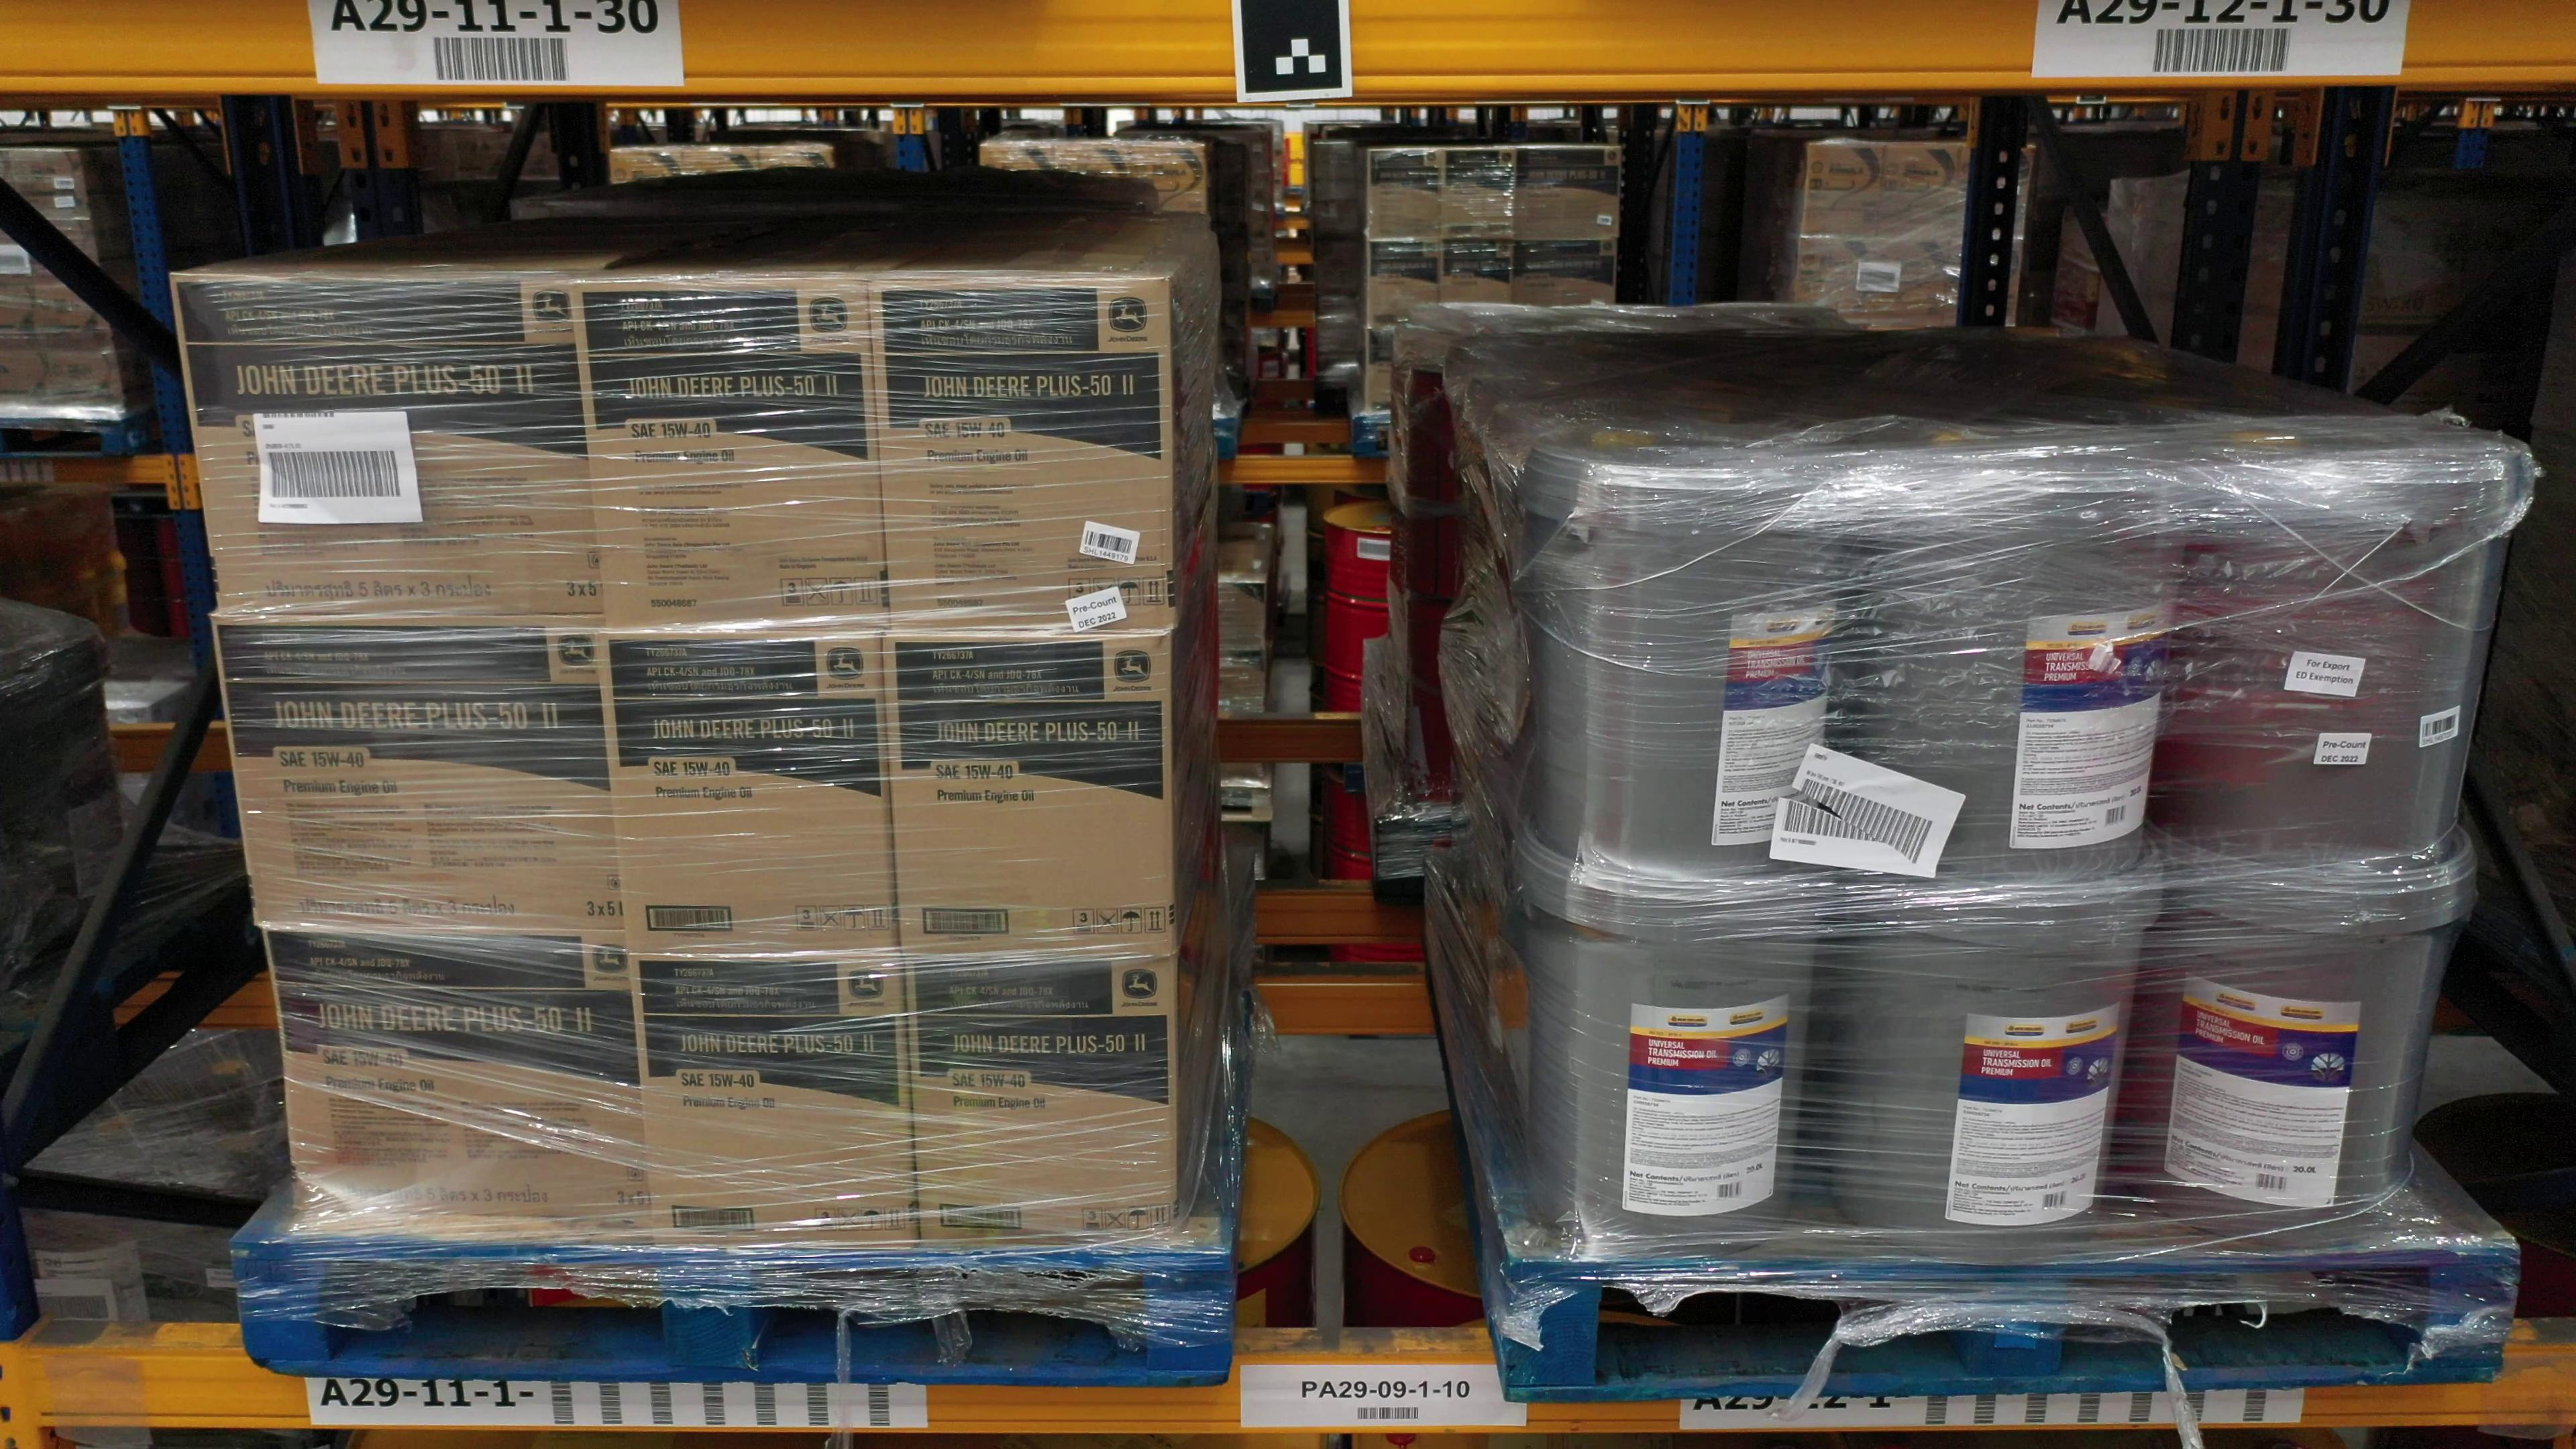-: (170, 269, 603, 616), (2173, 456, 2535, 870), (1858, 451, 2189, 888), (1525, 448, 1847, 892), (2144, 847, 2475, 1247), (212, 616, 625, 932), (1527, 840, 1828, 1261), (1838, 867, 2160, 1260), (262, 929, 653, 1231), (575, 274, 892, 635), (872, 280, 1171, 637), (881, 628, 1171, 959), (602, 630, 897, 952), (628, 950, 918, 1244), (904, 957, 1178, 1247)
